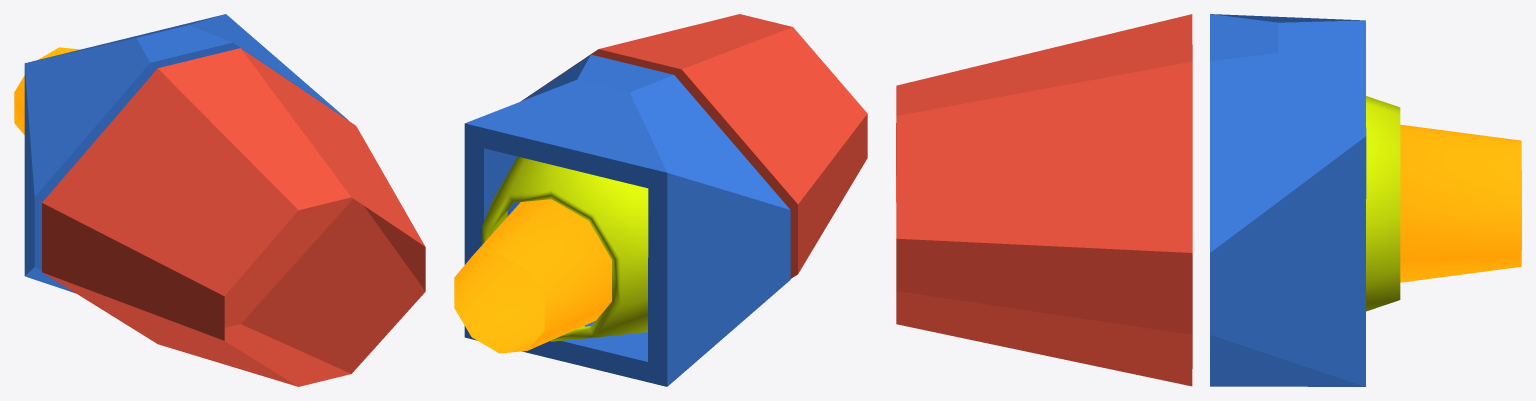
The model's file is teleport.glb.
3 views of the same model, side by side, from view 1: azimuth 30°, elevation 25°; view 2: azimuth 150°, elevation 25°; view 3: azimuth 270°, elevation 25° (orthographic). The views are drawn at different scales.
Parts seen in each view (by area): view 1: Plane.008, boost-part.016; view 2: Plane.008, boost-part.016; view 3: Plane.008, boost-part.016.
Part boxes in pixels (bbox=[...]): Plane.008: bbox=[24, 14, 425, 386]; boost-part.016: bbox=[14, 47, 80, 134]; Plane.008: bbox=[464, 14, 867, 386]; boost-part.016: bbox=[454, 199, 611, 353]; Plane.008: bbox=[896, 14, 1400, 386]; boost-part.016: bbox=[1400, 124, 1521, 282].
Bounding box in the file's own units: 0.1713 × 0.1437 × 0.2508.
